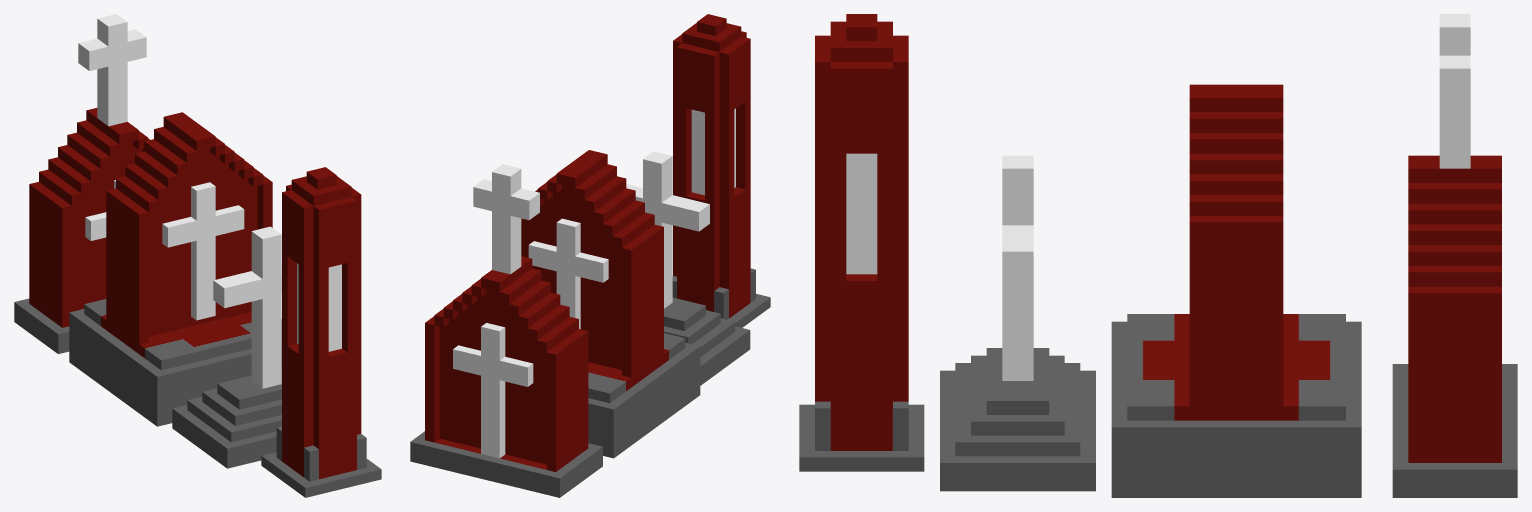
Rendered from Graves.fbx.
3 renders of one model, left to right at view 1: azimuth 30°, elevation 25°; view 2: azimuth 150°, elevation 25°; view 3: azimuth 270°, elevation 25°, orthographic. The views are drawn at different scales.
Visible parts, largest first — view 1: Grave_1, Grave_3, Grave_0, Grave_2; view 2: Grave_0, Grave_1, Grave_3, Grave_2; view 3: Grave_1, Grave_3, Grave_0, Grave_2.
Part boxes in pixels (box(x1,y1,x2,y2)): Grave_1: box(69, 112, 281, 426); Grave_3: box(261, 167, 381, 497); Grave_0: box(14, 14, 149, 353); Grave_2: box(172, 226, 281, 468); Grave_0: box(410, 164, 602, 497); Grave_1: box(521, 150, 700, 458); Grave_3: box(672, 14, 770, 327); Grave_2: box(626, 151, 750, 385); Grave_1: box(1111, 84, 1361, 497); Grave_3: box(799, 14, 924, 471); Grave_0: box(1392, 14, 1517, 497); Grave_2: box(940, 155, 1095, 491).
Bounding box in the file's own units: 16 × 30 × 46.
Materials: 1 (1 with a texture image).
